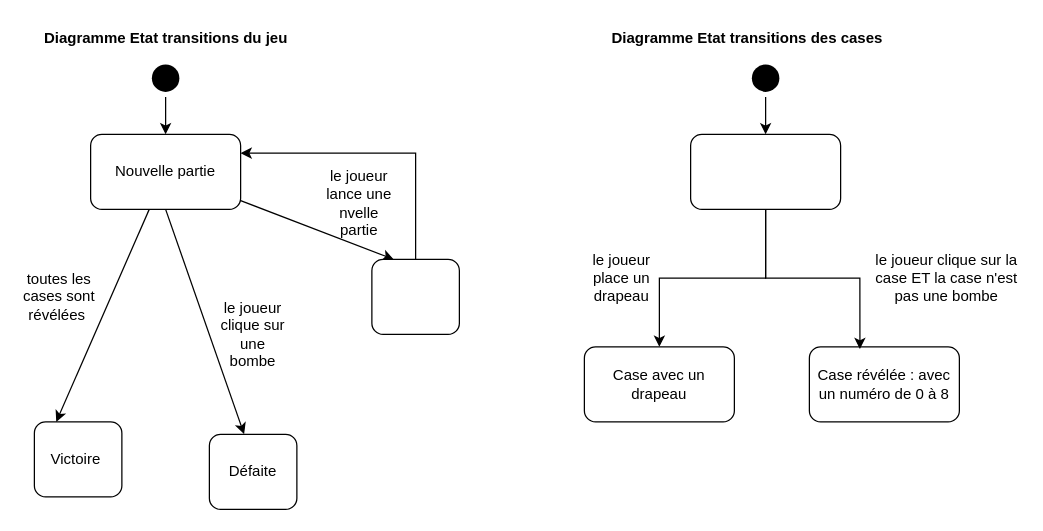
The diagram is 1043 pixels wide and 531 high, and some of its shapes have lost their labels. Each missing label, with the box of its shape:
Abandon: (371, 258, 459, 334)
Case non révélée: (689, 133, 841, 209)
